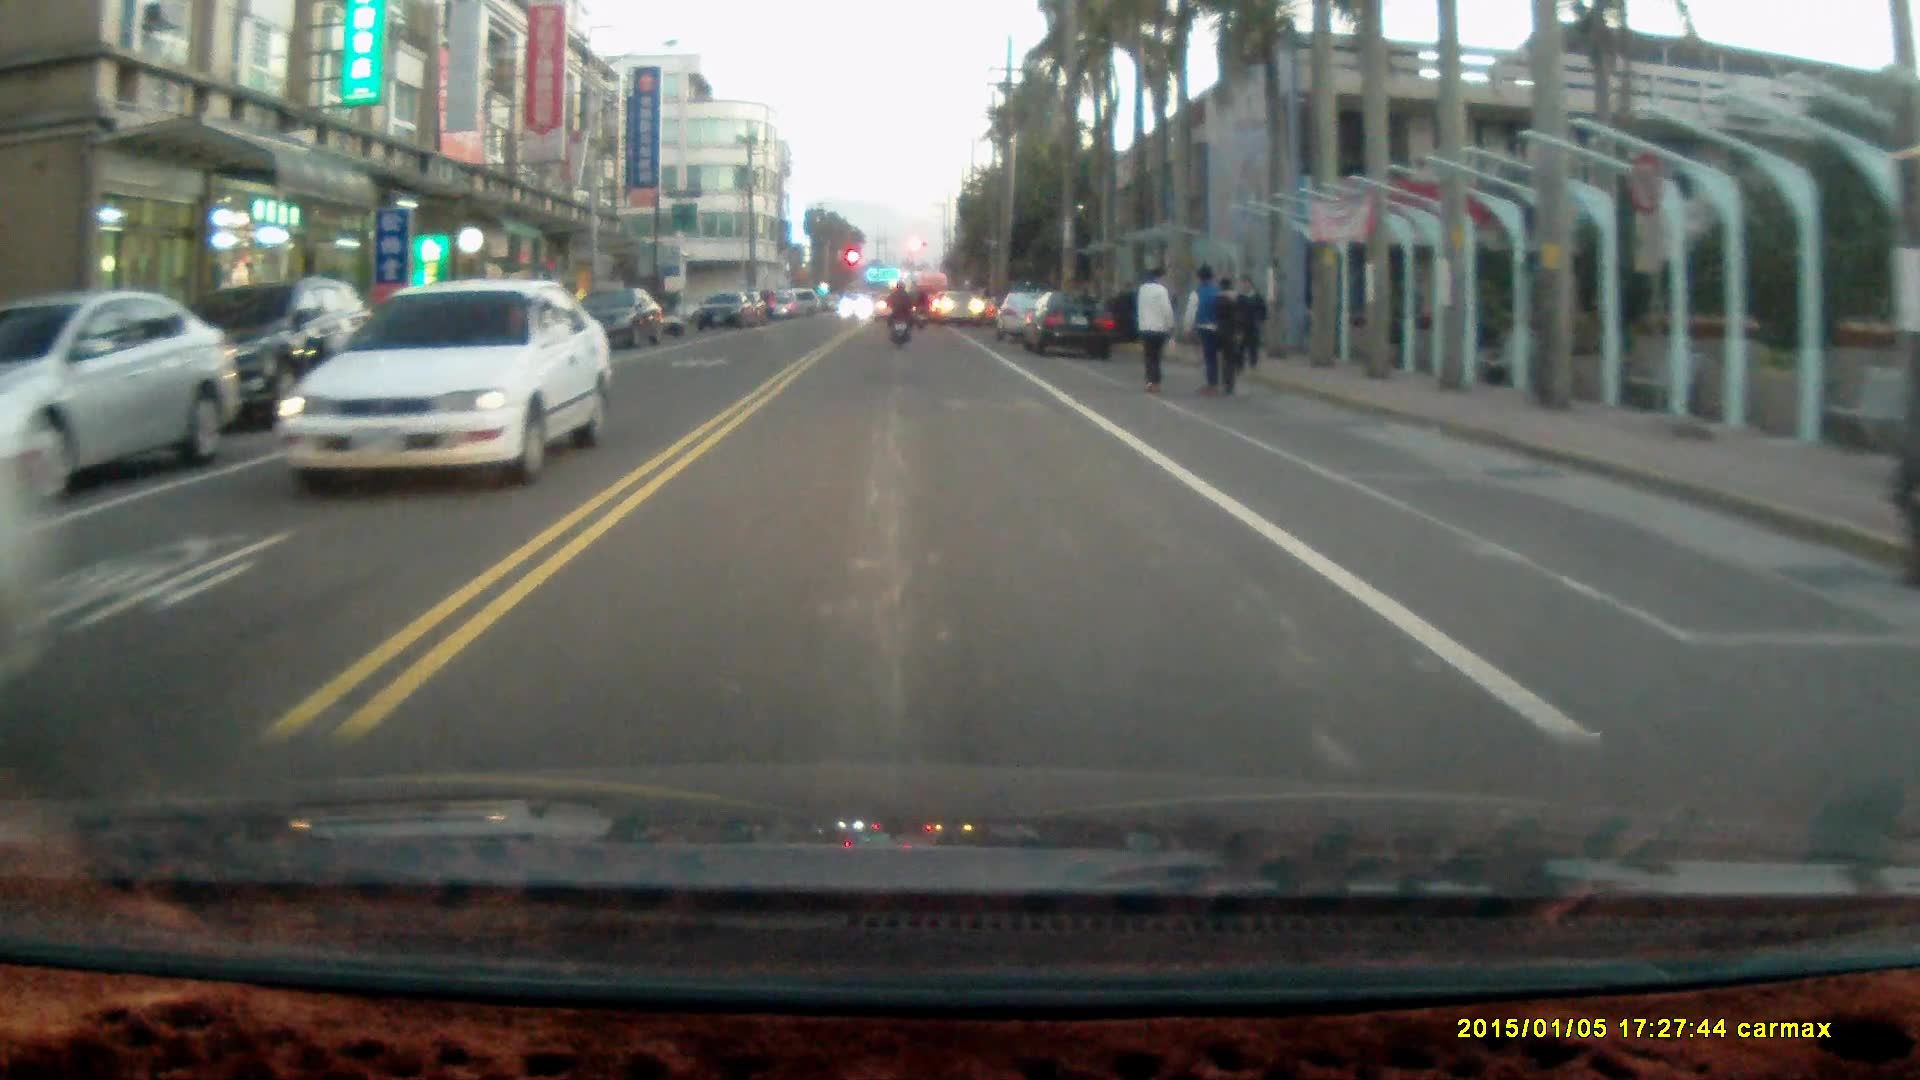pedestrian: (1180, 263, 1226, 398), (1132, 261, 1176, 398), (1207, 279, 1247, 403), (1232, 273, 1267, 373)
rider: (883, 278, 914, 350)
vehicle: (272, 282, 614, 484), (127, 278, 369, 425), (565, 286, 663, 351), (1029, 292, 1118, 361), (697, 292, 760, 335)
